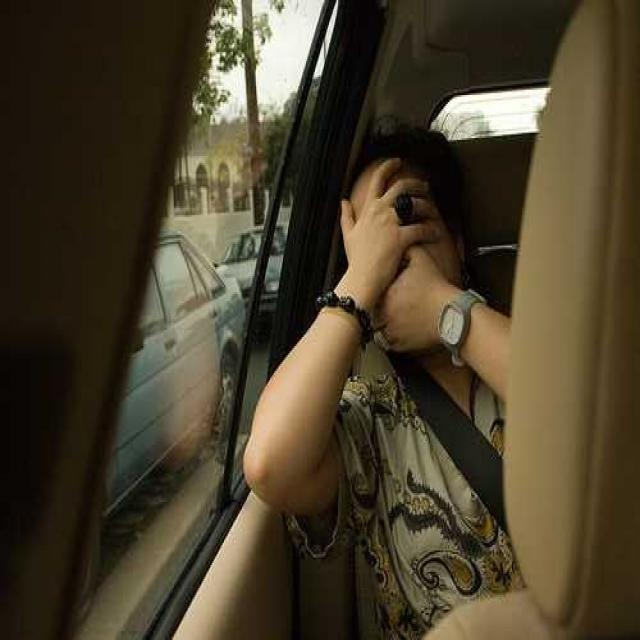seatbelt: (364, 304, 526, 530)
